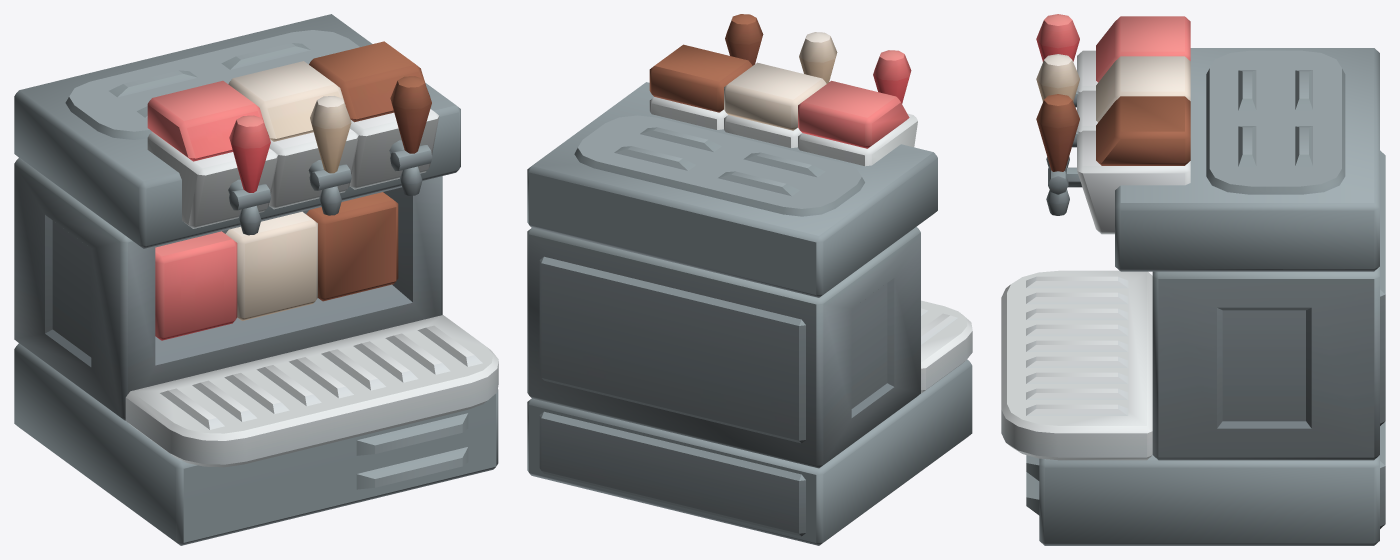
File: icecream_machine.gltf
3 views of the same model, side by side, from view 1: azimuth 30°, elevation 25°; view 2: azimuth 150°, elevation 25°; view 3: azimuth 270°, elevation 25° (orthographic). The views are drawn at different scales.
Parts seen in each view (by area): view 1: icecream_machine, icecream_machine_handle_strawberry, icecream_machine_handle_chocolate, icecream_machine_handle_vanilla; view 2: icecream_machine, icecream_machine_handle_strawberry, icecream_machine_handle_chocolate, icecream_machine_handle_vanilla; view 3: icecream_machine, icecream_machine_handle_chocolate, icecream_machine_handle_strawberry, icecream_machine_handle_vanilla.
Part boxes in pixels (<box>): icecream_machine: <box>14,14,498,545</box>; icecream_machine_handle_strawberry: <box>229,115,271,210</box>; icecream_machine_handle_chocolate: <box>390,76,432,171</box>; icecream_machine_handle_vanilla: <box>309,96,351,190</box>; icecream_machine: <box>527,44,972,545</box>; icecream_machine_handle_strawberry: <box>873,50,911,103</box>; icecream_machine_handle_chocolate: <box>725,14,763,65</box>; icecream_machine_handle_vanilla: <box>799,32,837,83</box>; icecream_machine: <box>1001,16,1385,545</box>; icecream_machine_handle_chocolate: <box>1036,94,1079,194</box>; icecream_machine_handle_strawberry: <box>1036,14,1079,61</box>; icecream_machine_handle_vanilla: <box>1036,54,1079,101</box>.
Bounding box in the file's own units: 2 × 2.4 × 2.03.
1 material, 1 textured.
